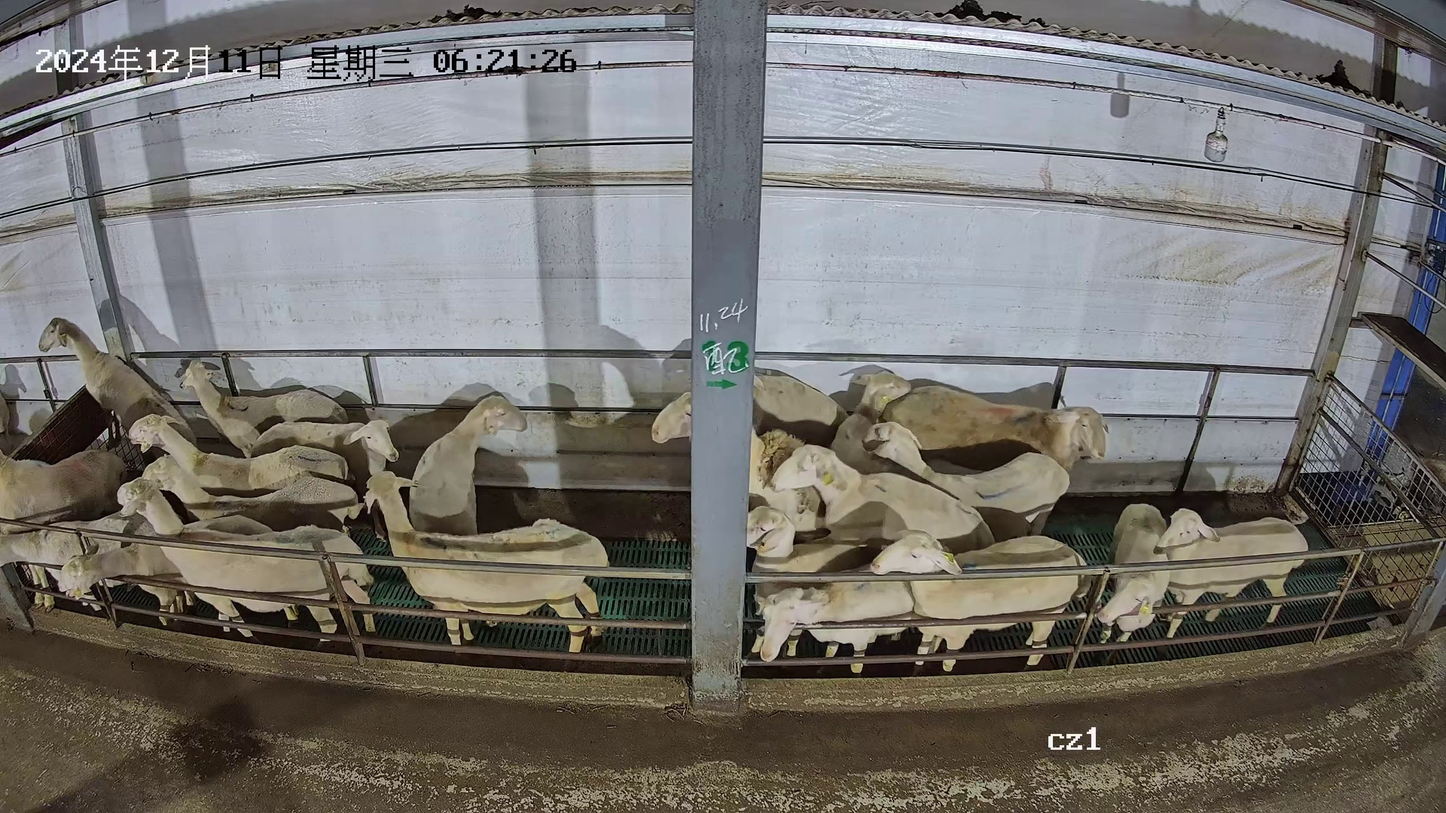Smounting: (742, 442, 996, 658)
mounted: (744, 503, 892, 654)
